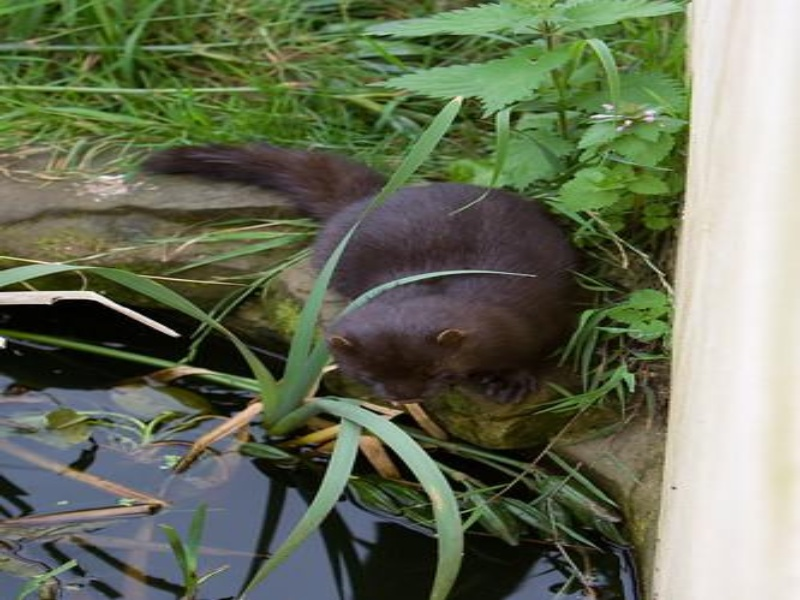minkish: (138, 135, 582, 413)
